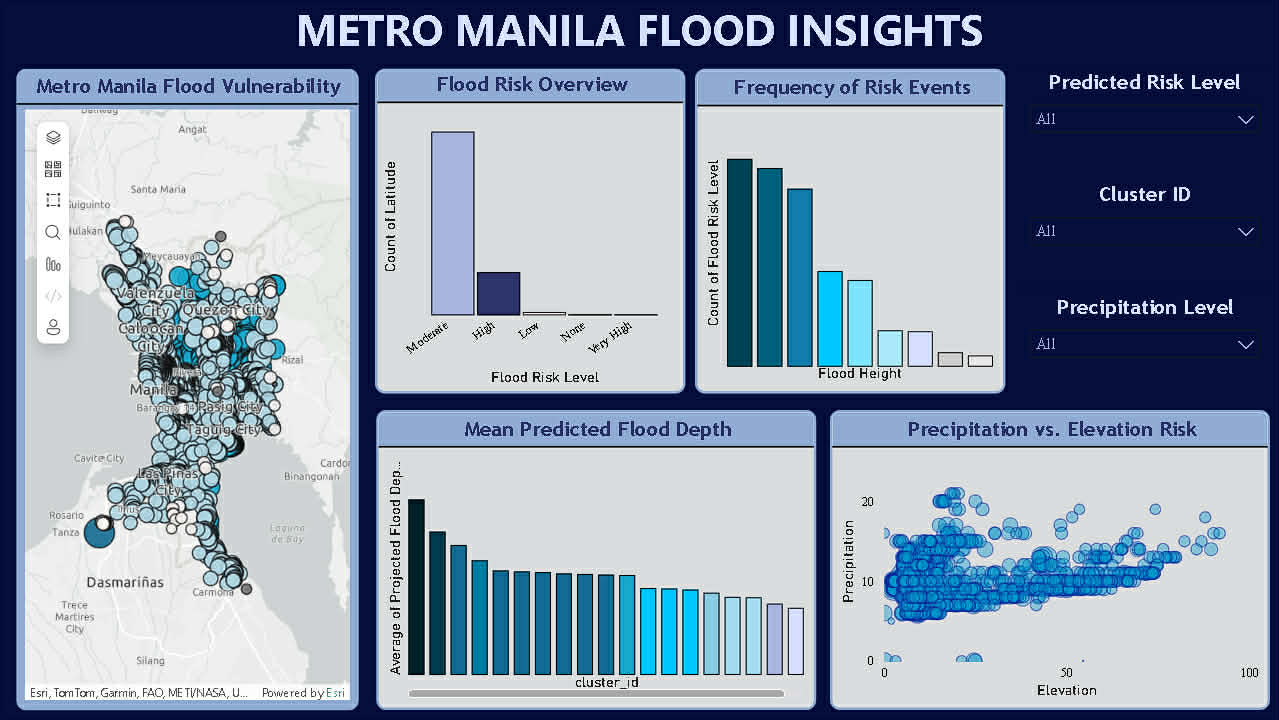

This screenshot's page, from the dashboard's own definition file:
{"tool":"powerbi","page":{"name":"Page 1","canvas":[1280,720],"ordinal":0},"visuals":[{"type":"textbox","title":"METRO MANILA FLOOD INSIGHTS","box":[0,0,1280,87.5],"z":0},{"type":"slicer","title":"Predicted Risk Level","fields":{"Values":["AEGIS_Flood_Predictions_BI(1).predicted_risk_tier"]},"box":[1020,68.8,250,100],"z":1000},{"type":"esriVisual","title":"Metro Manila Flood Vulnerability","fields":{"Latitude":["AEGIS_Flood_Predictions_BI(1).lat"],"Longitude":["AEGIS_Flood_Predictions_BI(1).lon"],"Size":["Sum(AEGIS_Flood_Predictions_BI(1).predicted_flood_height)"],"Color":["AEGIS_Flood_Predictions_BI(1).predicted_risk_tier"]},"box":[16.2,68.8,342.5,641.2],"z":2000},{"type":"slicer","title":"Precipitation Level","fields":{"Values":["AEGIS_Flood_Predictions_BI(1).precipitat"]},"box":[1020,293.8,250,100],"z":3000},{"type":"slicer","title":"Cluster ID","fields":{"Values":["AEGIS_Flood_Predictions_BI(1).cluster_id"]},"box":[1020,181.2,250,100],"z":4000},{"type":"clusteredColumnChart","title":"Mean Predicted Flood Depth","fields":{"Category":["AEGIS_Flood_Predictions_BI(1).cluster_id"],"Y":["Avg(AEGIS_Flood_Predictions_BI(1).predicted_flood_height)2"]},"box":[375.7,410,440,300],"z":5000},{"type":"clusteredColumnChart","title":"Frequency of Risk Events","fields":{"Category":["Sum(AEGIS_Flood_Predictions_BI(1).flood_heig)"],"Y":["CountNonNull(AEGIS_Flood_Predictions_BI(1).predicted_risk_tier)"]},"box":[695,68.8,310,325],"z":6000},{"type":"scatterChart","title":"Precipitation vs. Elevation Risk","fields":{"X":["Sum(AEGIS_Flood_Predictions_BI(1).elevation)"],"Y":["Sum(AEGIS_Flood_Predictions_BI(1).precipitat)"],"Size":["Sum(AEGIS_Flood_Predictions_BI(1).predicted_flood_height)"]},"box":[830,410,440,300],"z":7000},{"type":"clusteredColumnChart","title":"Flood Risk Overview","fields":{"Category":["AEGIS_Flood_Predictions_BI(1).predicted_risk_tier"],"Y":["CountNonNull(AEGIS_Flood_Predictions_BI(1).lat)"]},"box":[375,68.8,310,325],"z":8000}]}

Visuals, with their boxes in screenshot pixels (x1, y1, x2, y2), scaled from the page's 1280x720 canvas onto the 1279x720 screenshot:
"METRO MANILA FLOOD INSIGHTS" textbox: bbox=(0, 0, 1278, 88)
"Predicted Risk Level" slicer: bbox=(1019, 69, 1269, 169)
"Metro Manila Flood Vulnerability" esriVisual: bbox=(16, 69, 358, 710)
"Precipitation Level" slicer: bbox=(1019, 294, 1269, 394)
"Cluster ID" slicer: bbox=(1019, 181, 1269, 281)
"Mean Predicted Flood Depth" clusteredColumnChart: bbox=(375, 410, 815, 710)
"Frequency of Risk Events" clusteredColumnChart: bbox=(694, 69, 1004, 394)
"Precipitation vs. Elevation Risk" scatterChart: bbox=(829, 410, 1269, 710)
"Flood Risk Overview" clusteredColumnChart: bbox=(375, 69, 684, 394)
